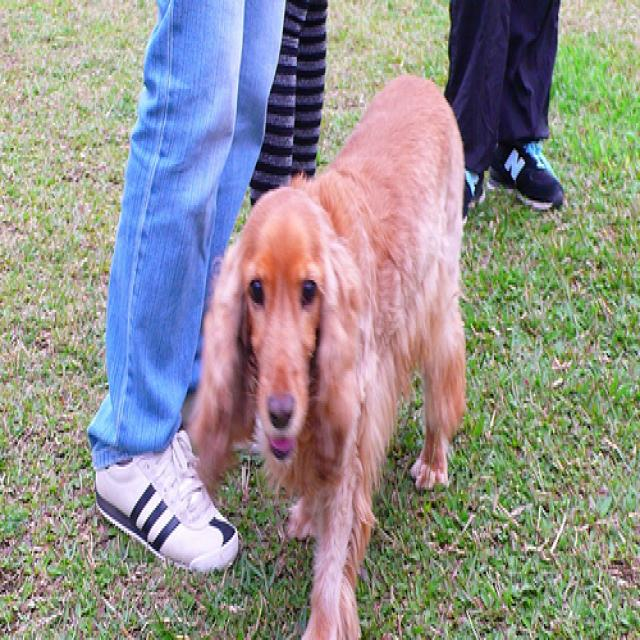dog-english_cocker_spaniel: (189, 59, 475, 635)
